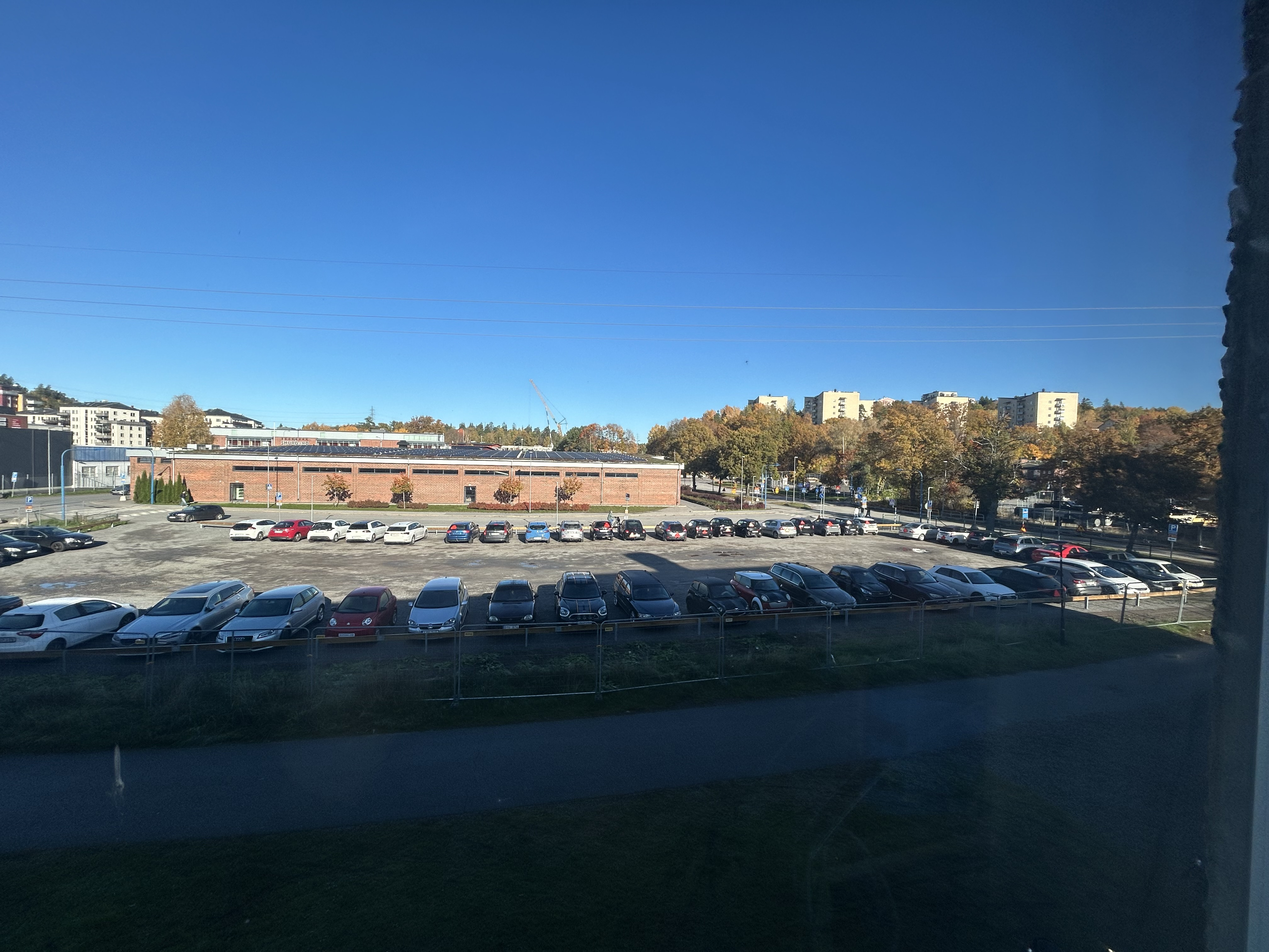Car: (112, 579, 255, 656), (0, 597, 143, 660), (216, 584, 326, 652), (765, 562, 858, 617), (1042, 556, 1150, 599), (869, 562, 963, 609), (326, 585, 400, 644), (610, 569, 682, 626), (407, 576, 469, 640), (928, 565, 1018, 608), (728, 569, 795, 620), (981, 566, 1066, 606), (685, 575, 750, 626), (553, 570, 608, 630), (1020, 562, 1101, 600), (828, 563, 892, 610), (487, 579, 537, 633), (1101, 560, 1180, 594), (1130, 558, 1204, 589), (0, 527, 93, 547), (992, 533, 1047, 558), (270, 519, 317, 542), (384, 522, 430, 545), (230, 519, 278, 541), (308, 519, 352, 543), (1033, 543, 1088, 562), (346, 520, 390, 543), (0, 533, 39, 558), (166, 505, 226, 521), (445, 521, 481, 544), (899, 522, 942, 541), (966, 530, 1005, 549), (483, 520, 515, 543), (654, 520, 687, 542), (761, 519, 795, 538), (557, 519, 585, 542), (523, 521, 552, 543), (617, 519, 646, 541), (937, 526, 971, 544), (1082, 549, 1136, 560), (685, 519, 713, 539), (733, 519, 762, 538), (709, 517, 735, 538), (811, 518, 841, 536), (789, 517, 814, 537), (590, 520, 613, 541), (854, 517, 878, 536), (835, 518, 859, 535)
